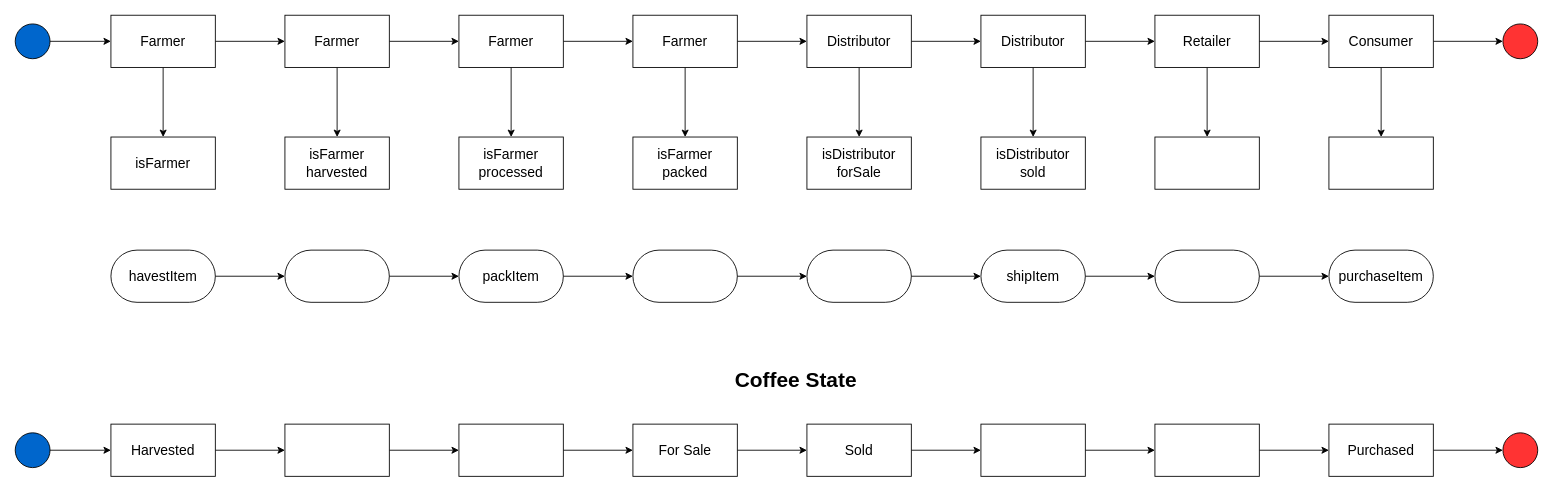
Some shapes in this 1553 by 492 pixel diagram are drawn without their labels. Each missing label, with the box of its shape:
buyItem: (806, 249, 911, 302)
isConsumer received: (1328, 136, 1433, 189)
isRetailer shipped: (1154, 136, 1259, 189)
Packed: (458, 423, 563, 476)
Processed: (284, 423, 389, 476)
processItem: (284, 249, 389, 302)
Received: (1154, 423, 1259, 476)
receiveItem: (1154, 249, 1259, 302)
sellItem: (632, 249, 737, 302)
Shipped: (980, 423, 1085, 476)
